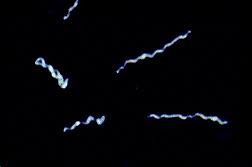sphyillis: (114, 27, 193, 77), (31, 55, 76, 91), (60, 107, 105, 143), (142, 111, 228, 128), (52, 1, 84, 20)
